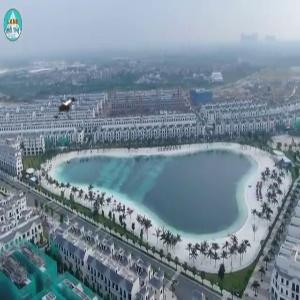drone: (34, 78, 100, 144)
